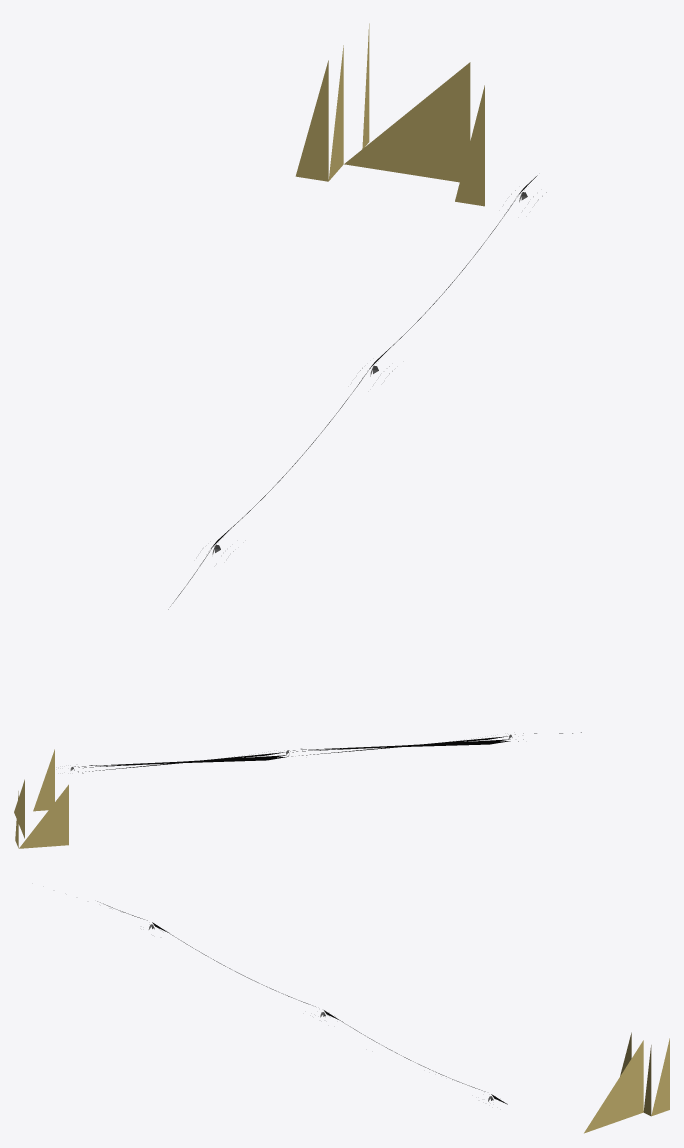
The picture shows the model from 3 angles, top to bottom: view 1: azimuth 30°, elevation 25°; view 2: azimuth 150°, elevation 25°; view 3: azimuth 270°, elevation 25°; orthographic projection. The views are drawn at different scales.
Size of the model in its own units: 447 by 62.5 by 511.
